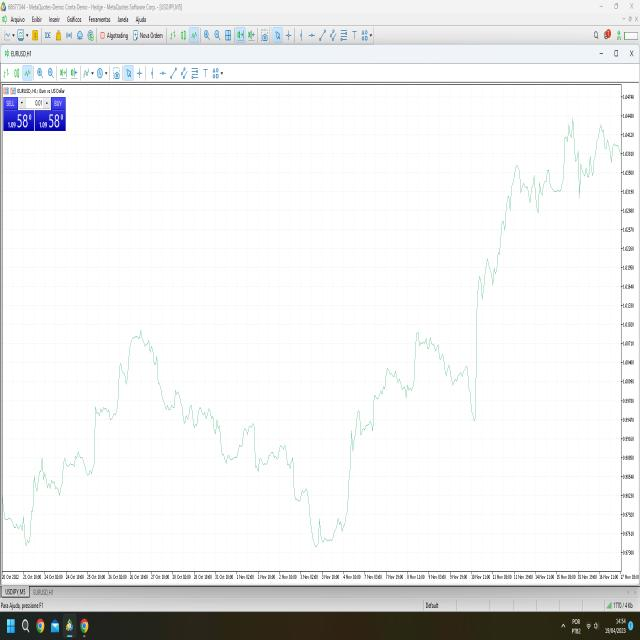bandeira_alta: (472, 244, 509, 448), (27, 454, 59, 560), (91, 390, 116, 488)
